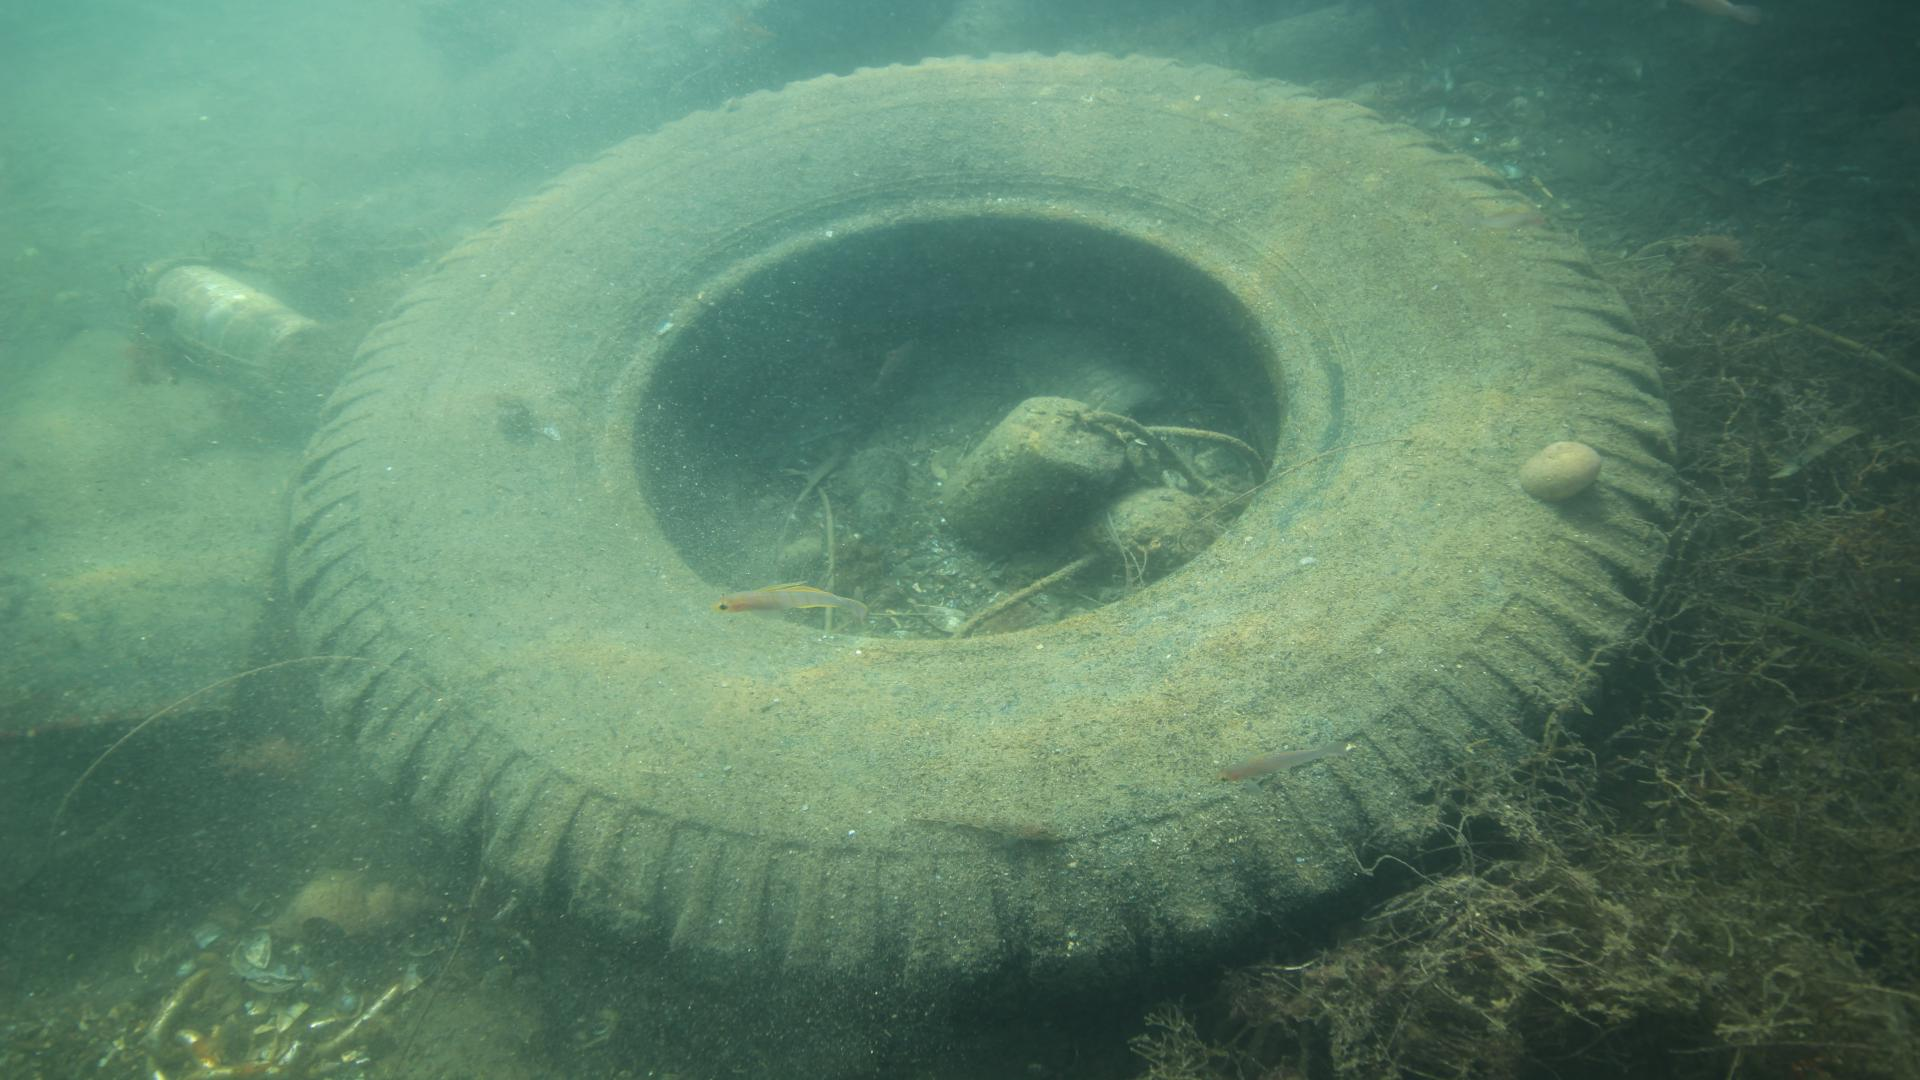tire: (290, 49, 1679, 1007)
